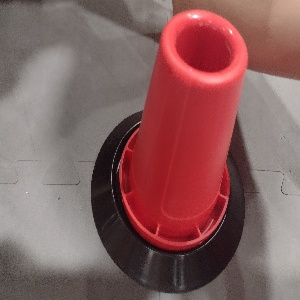Red_1: (117, 6, 250, 253)
